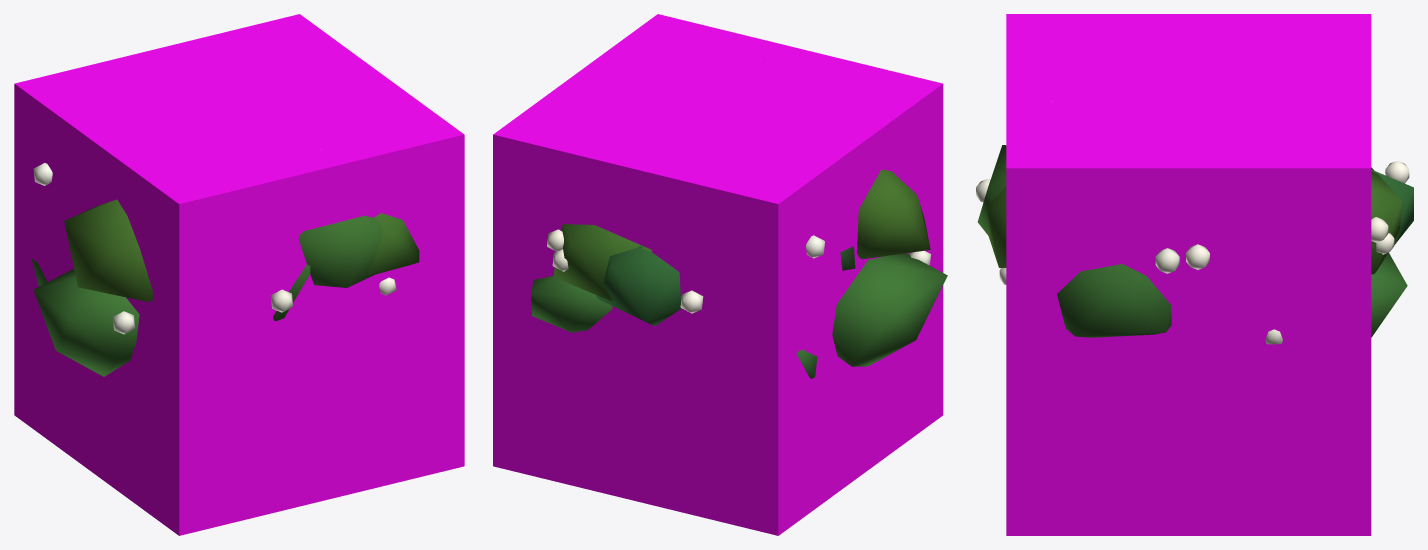
File: PRP_Jasmine_Bush_A.glb
3 renders of one model, left to right at view 1: azimuth 30°, elevation 25°; view 2: azimuth 150°, elevation 25°; view 3: azimuth 270°, elevation 25°, orthographic. The views are drawn at different scales.
Parts seen in each view (by area): view 1: COL_Bush, PRP_Jasmine_Bush_A_Leaves, PICK_Flowers; view 2: COL_Bush, PRP_Jasmine_Bush_A_Leaves, PICK_Flowers; view 3: COL_Bush, PRP_Jasmine_Bush_A_Leaves, PICK_Flowers.
Boxes of the visible parts, <box> form: COL_Bush: <box>14,14,464,535</box>; PRP_Jasmine_Bush_A_Leaves: <box>32,199,419,376</box>; PICK_Flowers: <box>33,163,396,334</box>; COL_Bush: <box>493,14,943,535</box>; PRP_Jasmine_Bush_A_Leaves: <box>531,169,947,378</box>; PICK_Flowers: <box>547,229,930,313</box>; COL_Bush: <box>1006,14,1371,535</box>; PRP_Jasmine_Bush_A_Leaves: <box>977,145,1413,337</box>; PICK_Flowers: <box>976,160,1409,344</box>.
Size of the model in its own units: 1.19 by 1.01 by 1.08.
